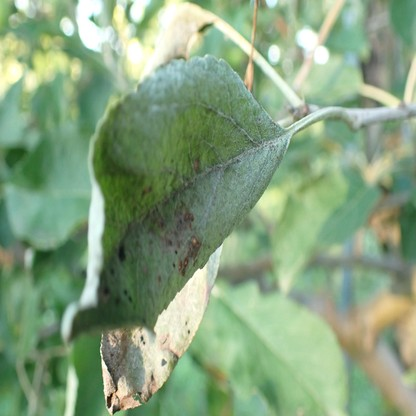powder: (61, 54, 288, 336), (100, 111, 244, 416)
